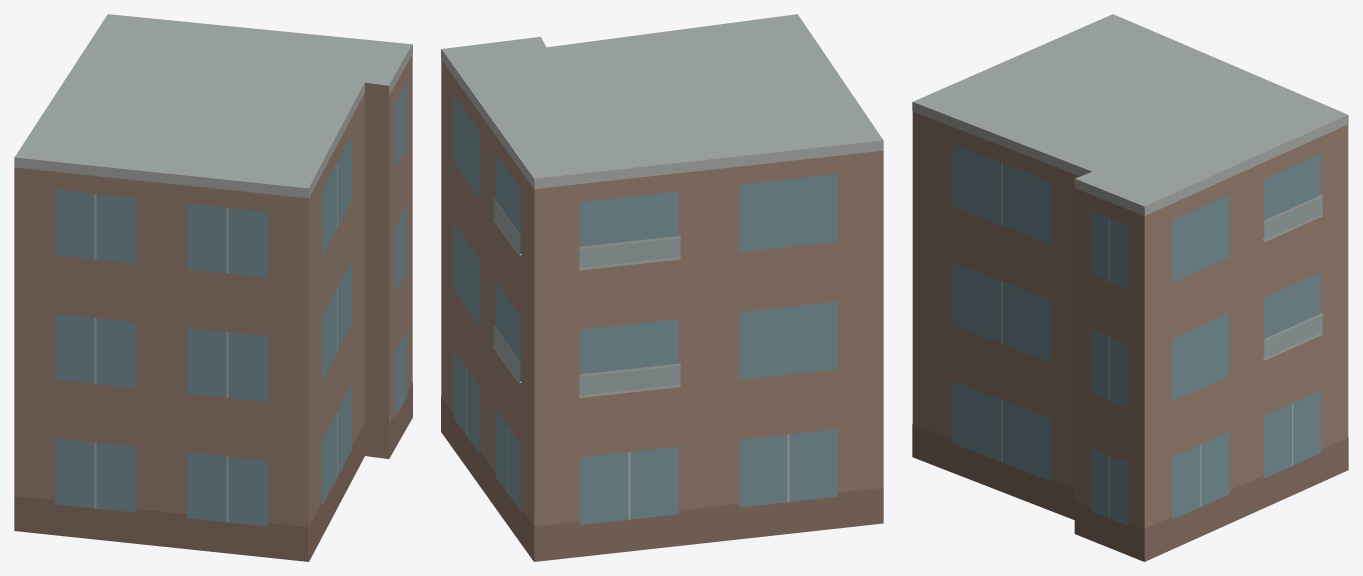
Rendered from survey-upis-32724452.glb.
The picture shows the model from 3 angles, left to right: view 1: azimuth 30°, elevation 25°; view 2: azimuth 150°, elevation 25°; view 3: azimuth 270°, elevation 25°; orthographic projection. The views are drawn at different scales.
Visible parts, largest first — view 1: survey-upis-32724452.tmp; view 2: survey-upis-32724452.tmp; view 3: survey-upis-32724452.tmp.
Boxes of the visible parts, <box> form: survey-upis-32724452.tmp: <box>14,14,412,561</box>; survey-upis-32724452.tmp: <box>441,14,883,561</box>; survey-upis-32724452.tmp: <box>912,14,1348,561</box>.
Size of the model in its own units: 10.64 by 9.15 by 10.18.
